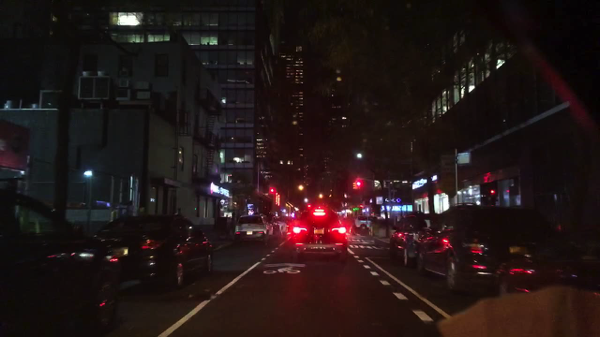car: (1, 190, 121, 337), (411, 203, 557, 293), (92, 213, 213, 291), (494, 232, 598, 299), (290, 207, 350, 262), (389, 212, 438, 266), (230, 214, 270, 245), (267, 219, 282, 239), (353, 216, 370, 228), (276, 219, 287, 233)
person: (125, 200, 134, 214), (138, 204, 146, 215), (174, 206, 181, 213)
traffic light: (353, 181, 357, 191), (356, 181, 359, 190), (270, 188, 272, 196)
traffic sign: (437, 174, 463, 198), (440, 155, 455, 174), (374, 197, 382, 205)
